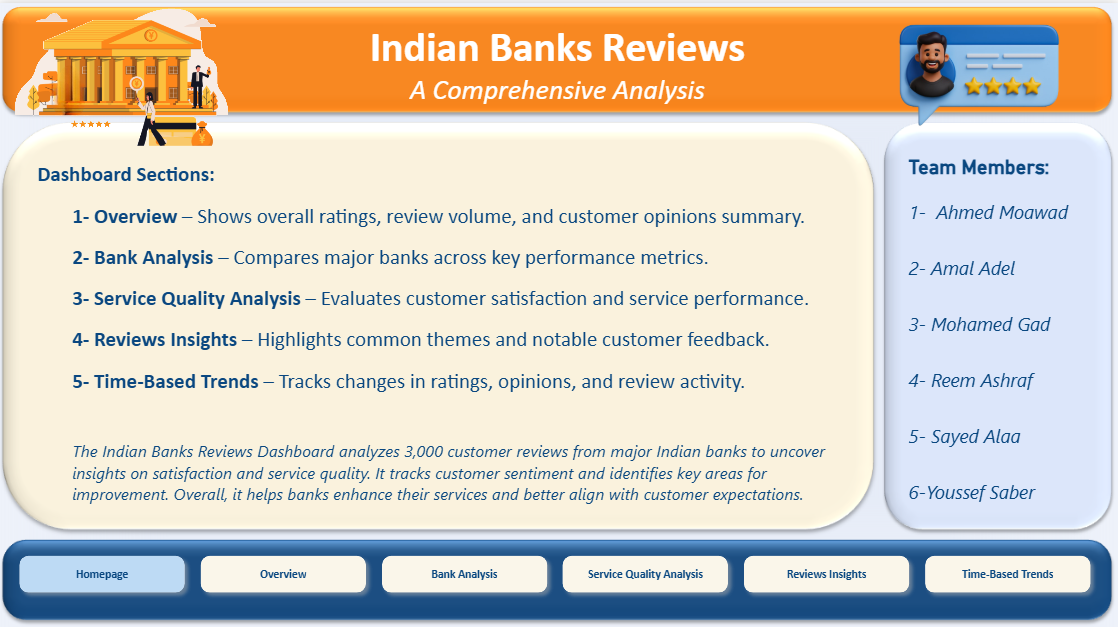

This screenshot's page, from the dashboard's own definition file:
{"tool":"powerbi","page":{"name":"Homepage","canvas":[1280,720],"ordinal":0},"visuals":[{"type":"textbox","box":[38.6,175.7,942.9,448.6],"z":0},{"type":"textbox","box":[15,15,1245,112.5],"z":1000},{"type":"image","box":[0,0,288.6,168.6],"z":2000},{"type":"pageNavigator","box":[14.3,622.9,1244.3,60],"z":3000},{"type":"image","box":[981.4,15.7,277.1,138.6],"z":4000},{"type":"textbox","title":"Team Members:","box":[1034.3,174.3,212.9,405.7],"z":6000}]}

Visuals, with their boxes in screenshot pixels (x1, y1, x2, y2), scaled from the page's 1280x720 canvas onto the 1118x627 screenshot:
textbox: (34,153,857,544)
textbox: (13,13,1101,111)
image: (0,0,252,147)
pageNavigator: (12,542,1099,595)
image: (857,14,1099,134)
"Team Members:" textbox: (903,152,1089,505)
